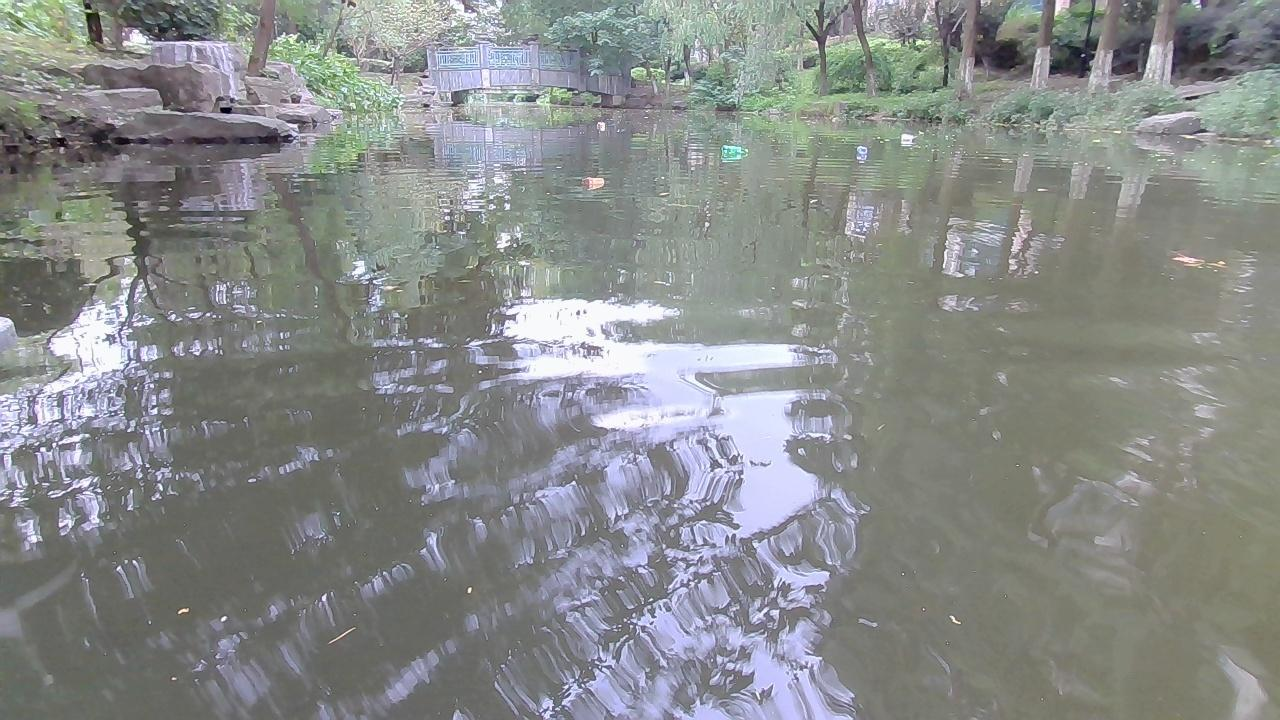bottle: (719, 142, 751, 155), (580, 173, 608, 185), (897, 131, 917, 145), (851, 143, 866, 155), (592, 118, 605, 129)
